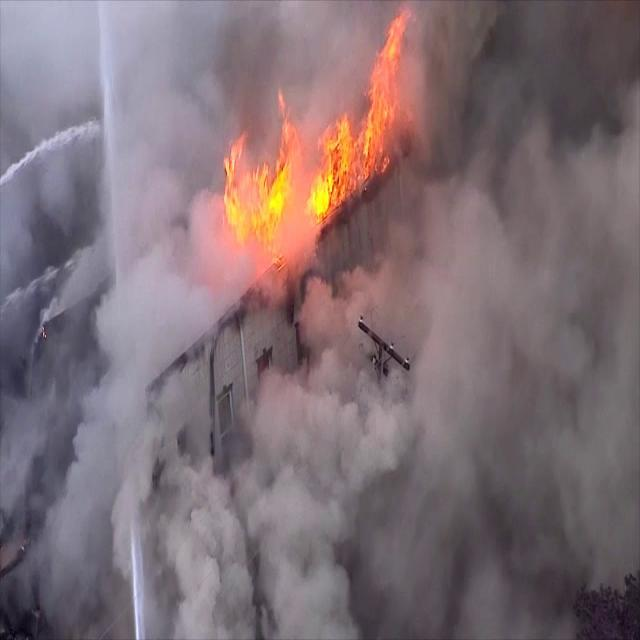Fire: (235, 116, 382, 225)
Smoke: (434, 11, 629, 588), (144, 366, 424, 606), (29, 6, 198, 352)
